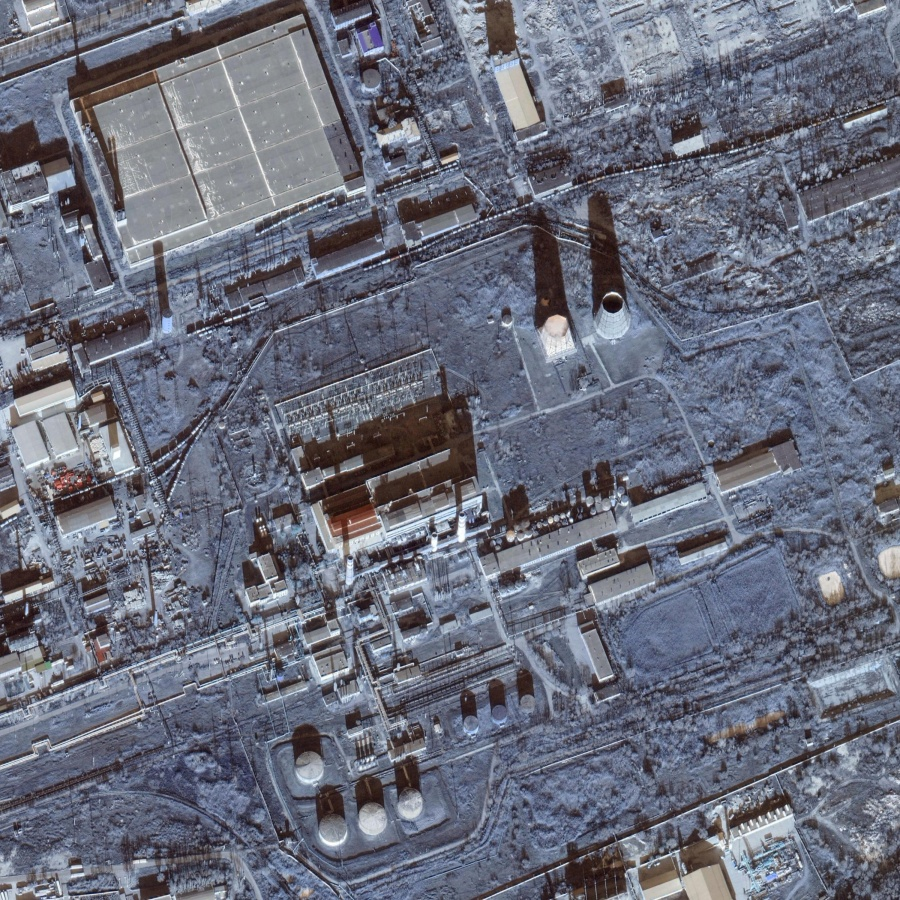PowerPlant: (274, 263, 674, 851)
